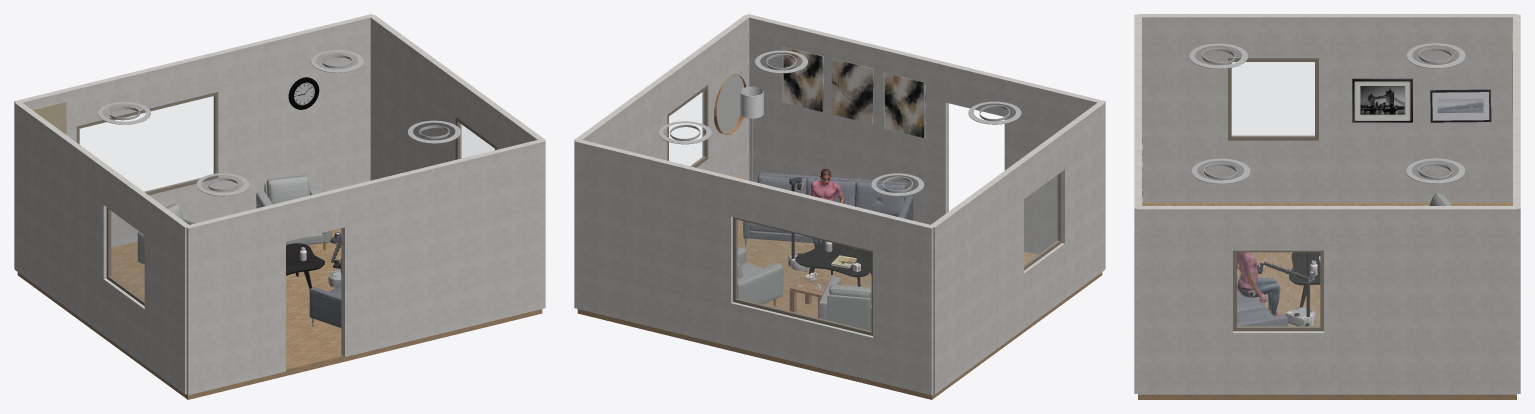
3 renders of one model, left to right at view 1: azimuth 30°, elevation 25°; view 2: azimuth 150°, elevation 25°; view 3: azimuth 270°, elevation 25°, orthographic. The views are drawn at different scales.
Visible parts, largest first — view 1: world (×16), glass (×3), room_geometry_living_room__v0, frame (×2), Walnutd.001, living_room_wall_hanging_0; view 2: world (×17), glass (×3), room_geometry_living_room__v0, frame (×3), living_room_painting_1, living_room_painting_2, living_room_painting_0, Walnutd.001, Wood__Oak.002; view 3: world (×14), glass (×2), room_geometry_living_room__v0, frame (×2), Shader1.001, Walnutd.001, base_link, robot_Pantone_Cool_Gray_4_U.
Boxes of the visible parts, bbox=[...] form: world (×16): bbox=[14, 14, 545, 395]; glass (×3): bbox=[80, 96, 494, 300]; room_geometry_living_room__v0: bbox=[17, 228, 542, 399]; frame (×2): bbox=[76, 92, 218, 305]; Walnutd.001: bbox=[286, 243, 324, 289]; living_room_wall_hanging_0: bbox=[33, 101, 66, 134]; world (×17): bbox=[574, 14, 1105, 395]; glass (×3): bbox=[669, 91, 1058, 330]; room_geometry_living_room__v0: bbox=[577, 220, 1102, 399]; frame (×3): bbox=[667, 85, 1061, 335]; living_room_painting_1: bbox=[831, 58, 873, 124]; living_room_painting_2: bbox=[883, 72, 925, 138]; living_room_painting_0: bbox=[782, 46, 823, 112]; Walnutd.001: bbox=[795, 241, 871, 286]; Wood__Oak.002: bbox=[789, 274, 829, 317]; world (×14): bbox=[1134, 14, 1520, 394]; glass (×2): bbox=[1232, 62, 1319, 326]; room_geometry_living_room__v0: bbox=[1138, 202, 1516, 399]; frame (×2): bbox=[1228, 58, 1323, 331]; Shader1.001: bbox=[1352, 78, 1412, 122]; Walnutd.001: bbox=[1289, 252, 1320, 307]; base_link: bbox=[1237, 252, 1258, 297]; robot_Pantone_Cool_Gray_4_U: bbox=[1285, 307, 1315, 326].
Bounding box in the file's own units: 6.1 × 2.8 × 5.1.
Materials: 49 (24 with a texture image).
